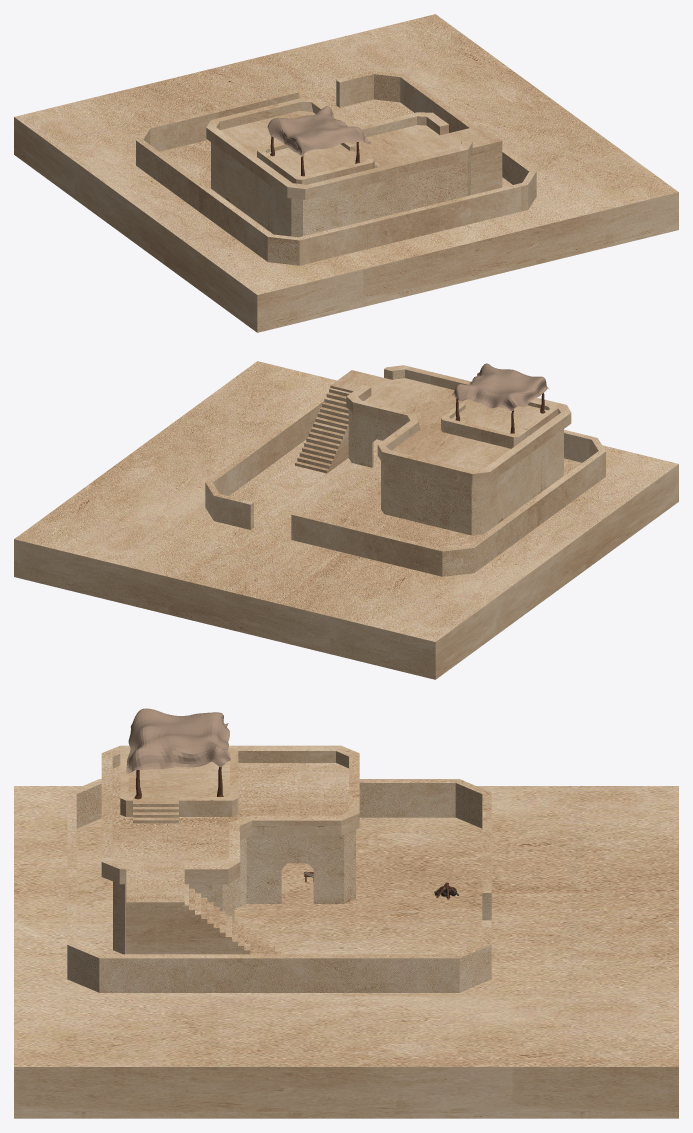
Rendered from house_simple.glb.
3 views of the same model, one above another, from view 1: azimuth 30°, elevation 25°; view 2: azimuth 150°, elevation 25°; view 3: azimuth 270°, elevation 25° (orthographic). The views are drawn at different scales.
Visible parts, largest first — view 1: bottom, Room.002, stairs., Room, roof, Plane; view 2: bottom, stairs., Room.002, Room, roof, Plane; view 3: bottom, stairs., Room.002, Room, roof, Plane.
Boxes of the visible parts, x1,y1,x2,y2 form: bottom: (14, 14, 678, 332); Room.002: (136, 71, 536, 265); stairs.: (206, 98, 502, 199); Room: (211, 142, 470, 237); roof: (257, 142, 381, 184); Plane: (267, 106, 370, 157); bottom: (14, 361, 678, 679); stairs.: (295, 365, 571, 484); Room.002: (205, 392, 605, 576); Room: (348, 410, 563, 535); roof: (441, 399, 558, 448); Plane: (452, 363, 548, 410); bottom: (14, 786, 678, 1118); stairs.: (101, 745, 359, 954); Room.002: (67, 779, 491, 992); Room: (113, 830, 355, 954); roof: (120, 748, 238, 823); Plane: (126, 708, 230, 773).
Size of the model in its own units: 50 by 15.64 by 50.
Materials: 10 (7 with a texture image).
